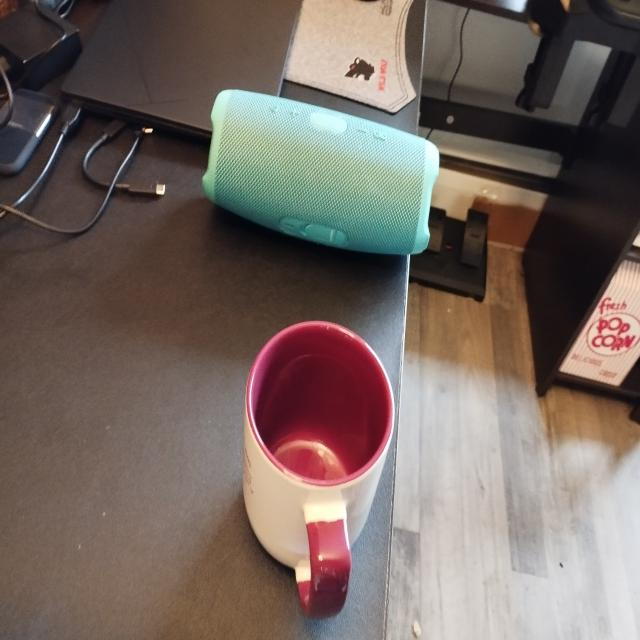Cup: (222, 309, 402, 619)
